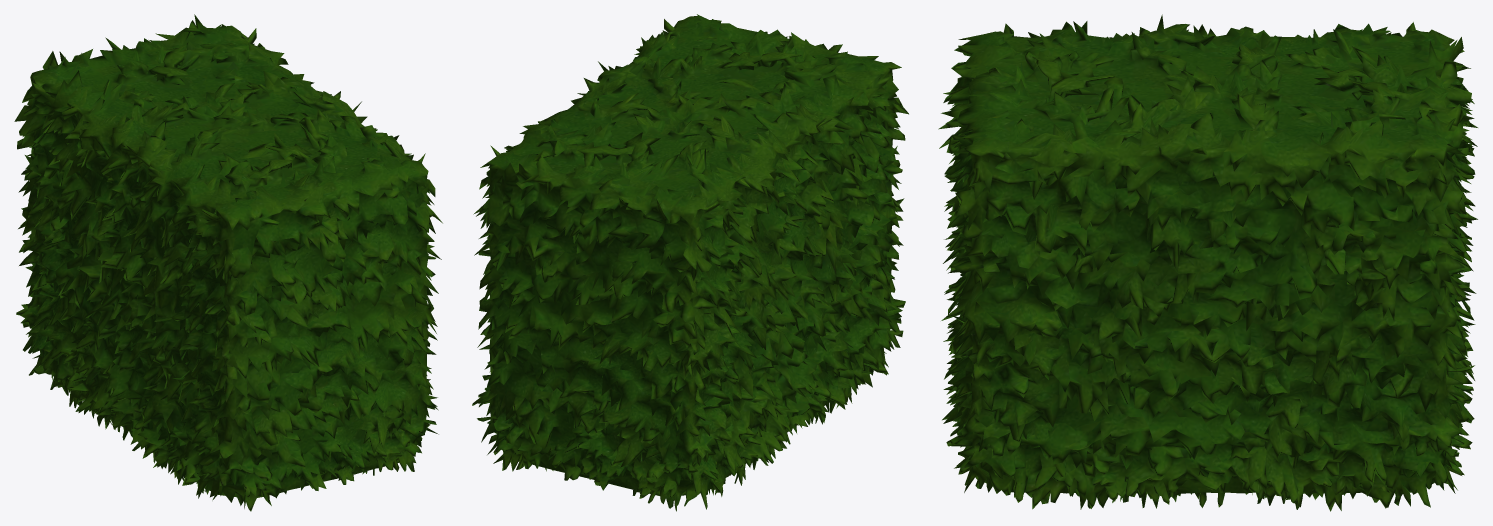
Rendered from hedge-straight.glb.
3 views of the same model, side by side, from view 1: azimuth 30°, elevation 25°; view 2: azimuth 150°, elevation 25°; view 3: azimuth 270°, elevation 25° (orthographic). The views are drawn at different scales.
Visible parts, largest first — view 1: tripo_node_00072674-5e11-4096-b4e1-cc92fe6b4cdb; view 2: tripo_node_00072674-5e11-4096-b4e1-cc92fe6b4cdb; view 3: tripo_node_00072674-5e11-4096-b4e1-cc92fe6b4cdb.
Boxes of the visible parts, x1=… form: tripo_node_00072674-5e11-4096-b4e1-cc92fe6b4cdb: x1=14, y1=14, x2=442, y2=511; tripo_node_00072674-5e11-4096-b4e1-cc92fe6b4cdb: x1=472, y1=14, x2=908, y2=511; tripo_node_00072674-5e11-4096-b4e1-cc92fe6b4cdb: x1=938, y1=14, x2=1477, y2=511.
Size of the model in its own units: 0.7818 by 1 by 1.26.
Materials: 1 (1 with a texture image).
